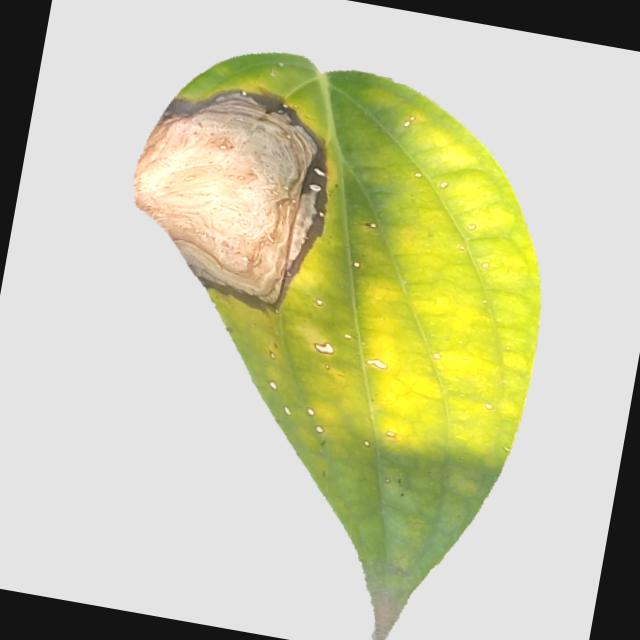leaf-blight: (38, 37, 581, 640)
